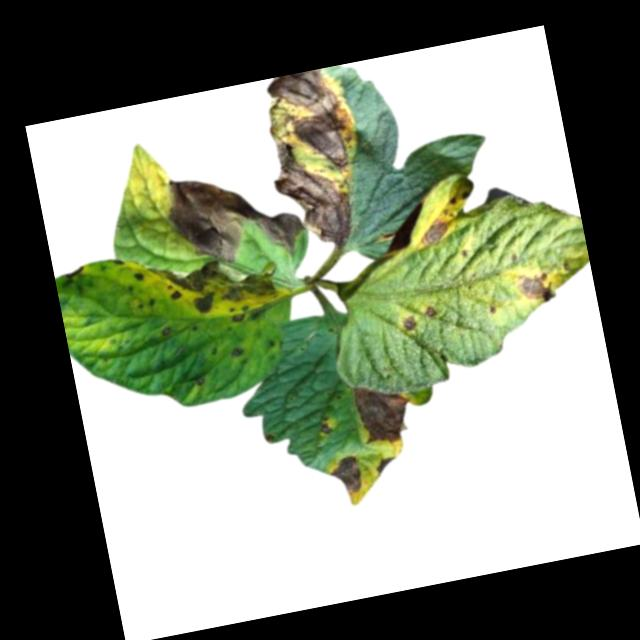Early_blight: (255, 65, 377, 256), (160, 156, 307, 272), (152, 245, 282, 335), (353, 376, 414, 448), (326, 451, 363, 496), (514, 266, 555, 306), (416, 211, 455, 252), (374, 453, 399, 477), (62, 263, 87, 280), (399, 312, 419, 333), (423, 301, 439, 319), (319, 414, 333, 434), (230, 344, 244, 357), (133, 268, 145, 280)
